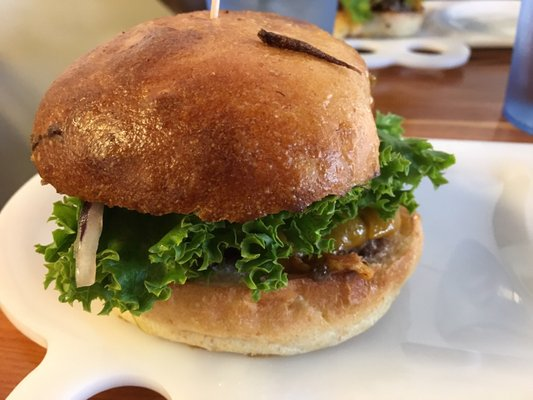pizza: (502, 0, 533, 140)
soup: (18, 3, 441, 358)
